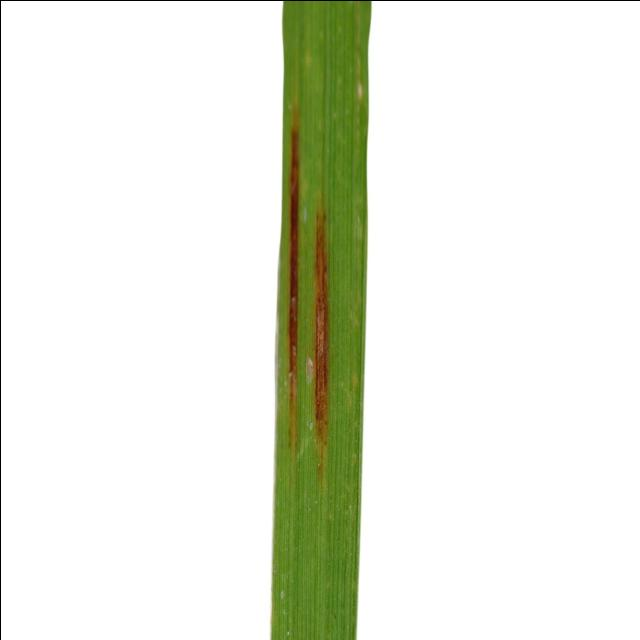Narrow brown: (152, 0, 389, 640)
